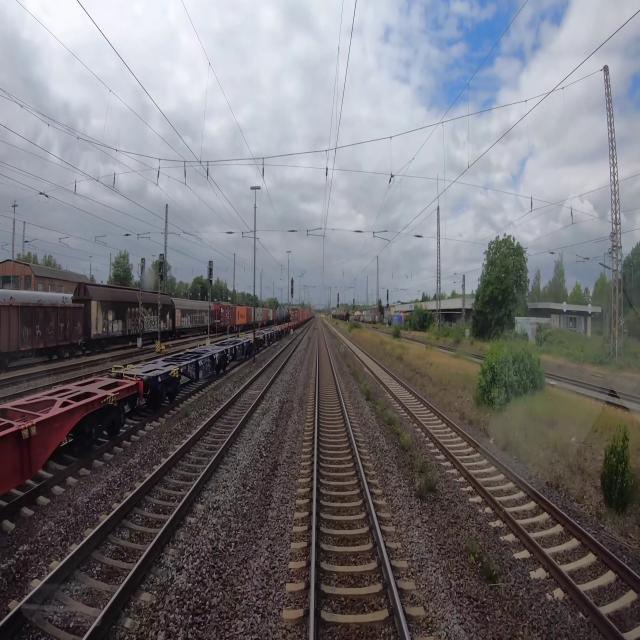Plant: (327, 317, 639, 548), (374, 396, 440, 503), (464, 536, 501, 588), (348, 358, 372, 402), (338, 345, 346, 357)
